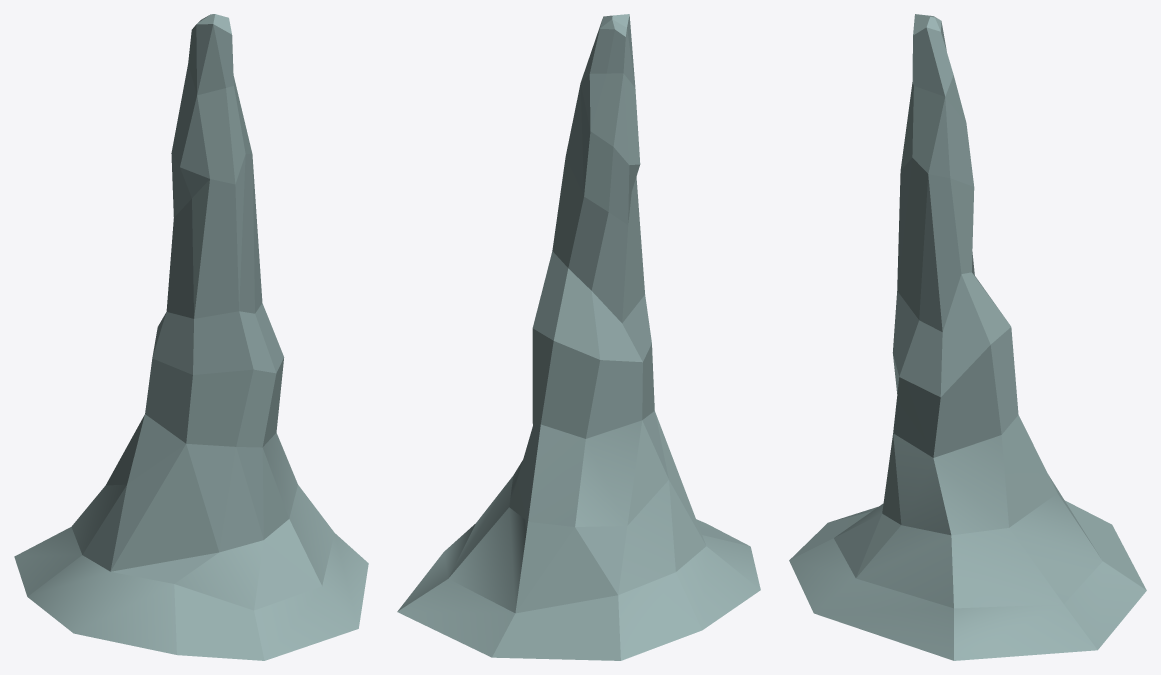
File: Rock3.fbx
3 views of the same model, side by side, from view 1: azimuth 30°, elevation 25°; view 2: azimuth 150°, elevation 25°; view 3: azimuth 270°, elevation 25° (orthographic). The views are drawn at different scales.
Visible parts, largest first — view 1: salactites_1; view 2: salactites_1; view 3: salactites_1.
Part boxes in pixels (x1,y1,x2,y2): salactites_1: (14,14,368,660); salactites_1: (397,14,760,660); salactites_1: (789,14,1146,660).
Bounding box in the file's own units: 6925 × 12603 × 7185.
